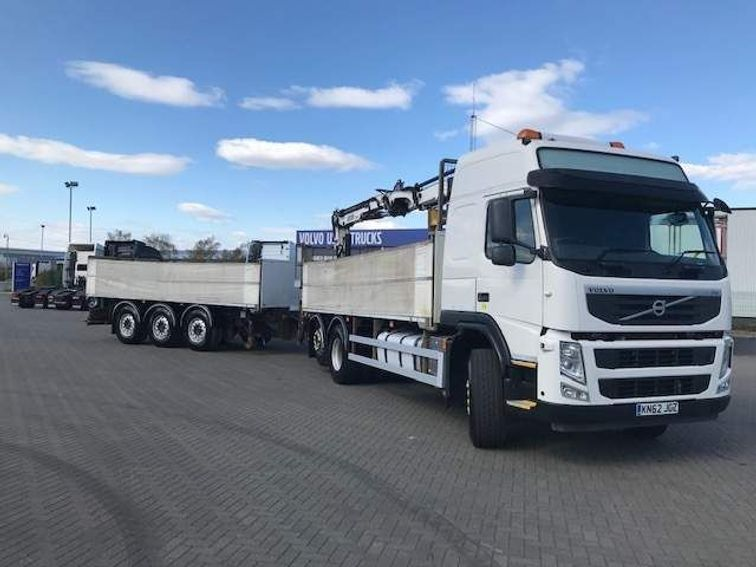Semi: (85, 128, 732, 449)
